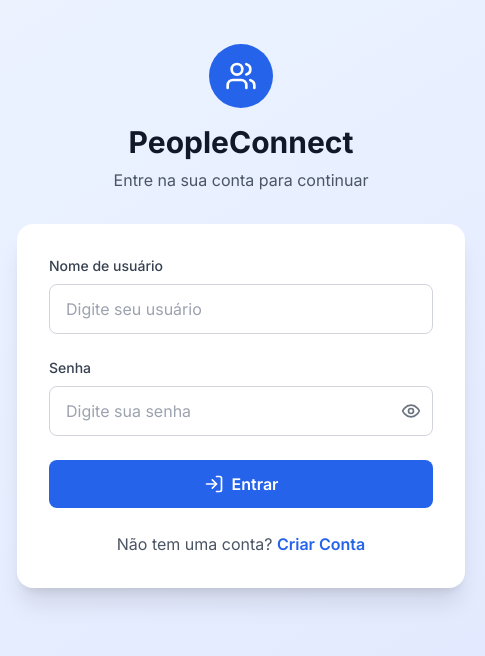
it: LoginPage › deve tratar erro de credenciais incorretas
Type "testuser" into the field labelled "Nome de usuário".
click(241, 309); type("testuser")  # box [49,284,433,334]
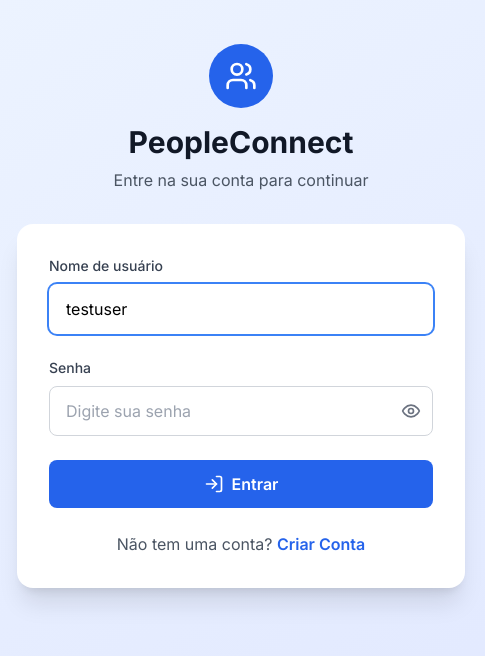
Type "wrongpassword" into the password field with placeholder "Digite sua senha".
click(241, 411); type("wrongpassword")  # box [49,386,433,436]
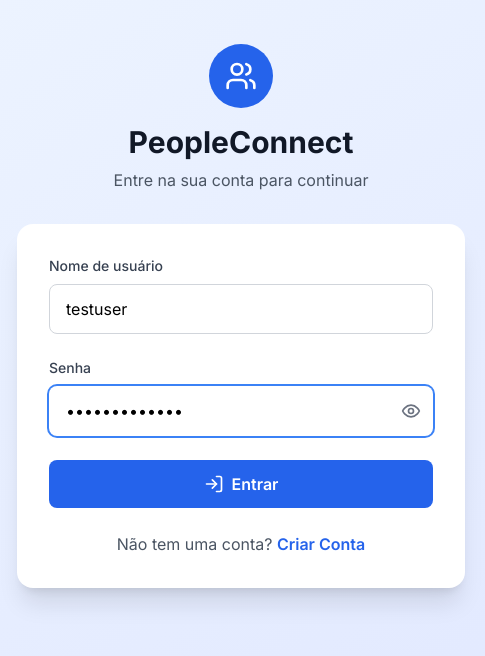
Click the button "Entrar".
click(241, 484)  # box [49,460,433,508]
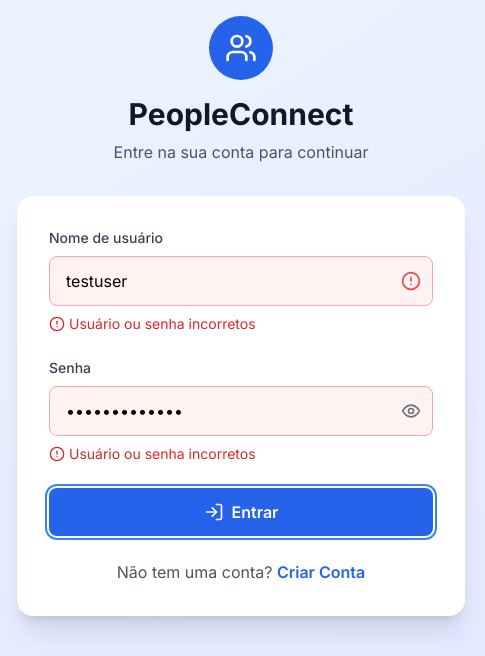
Now the text "Usuário ou senha incorretos" below "Nome de usuário" is shown, box [69,315,256,332]
